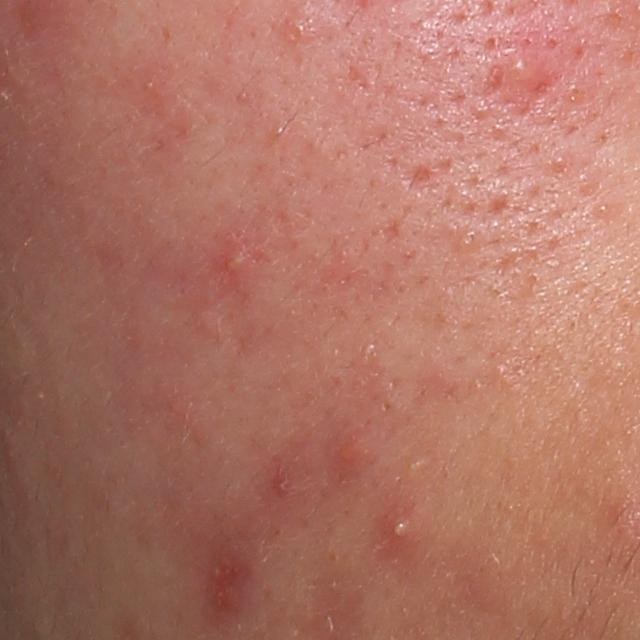papule: (204, 548, 245, 615), (332, 428, 374, 474)
pustule: (216, 243, 256, 287), (383, 514, 414, 549)
